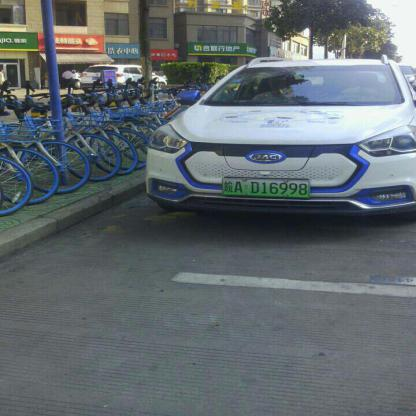lp: (222, 176, 310, 198)
